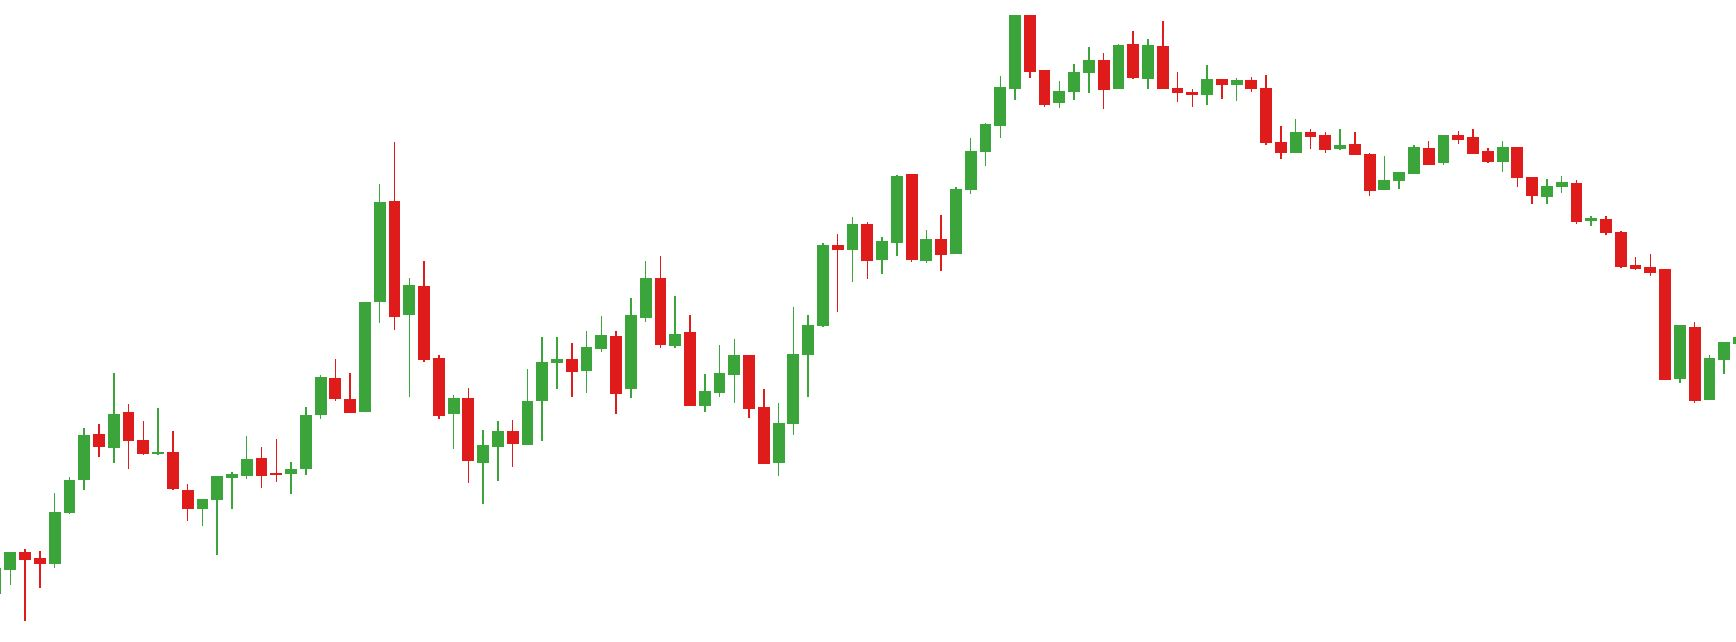buy: (697, 362, 800, 477)
